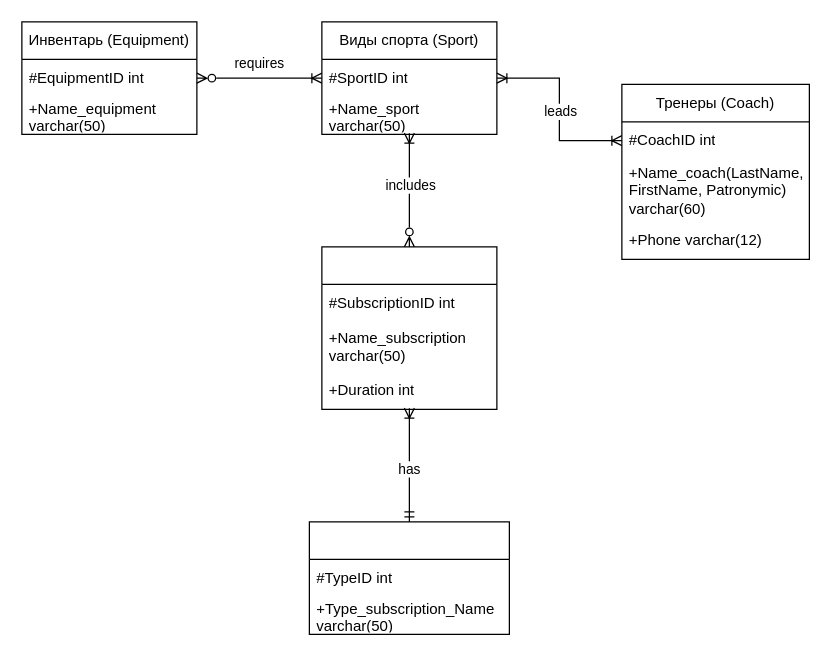
This 831x656 diagram has some shape labels left out. Each missing label, with the box of its shape:
Абонемент (Subscription): (321, 246, 497, 409)
Тип абонемента (SubscriptionType): (308, 521, 509, 634)
